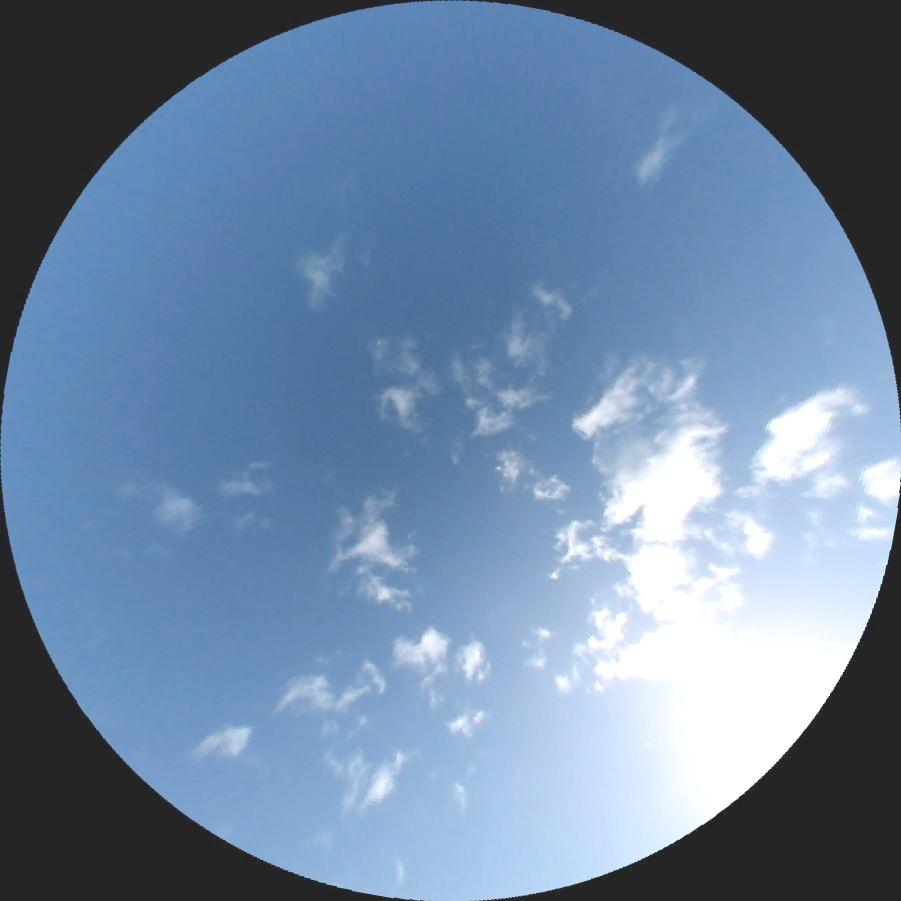sun: (658, 624, 836, 808)
